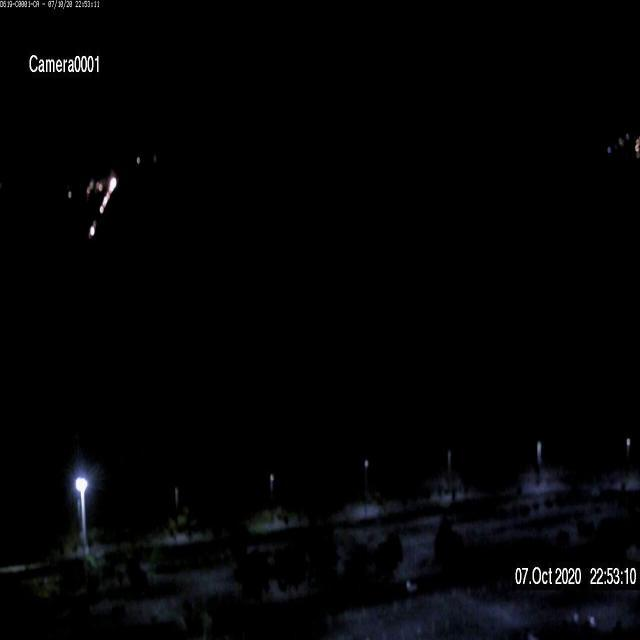Fire: (94, 174, 118, 214)
